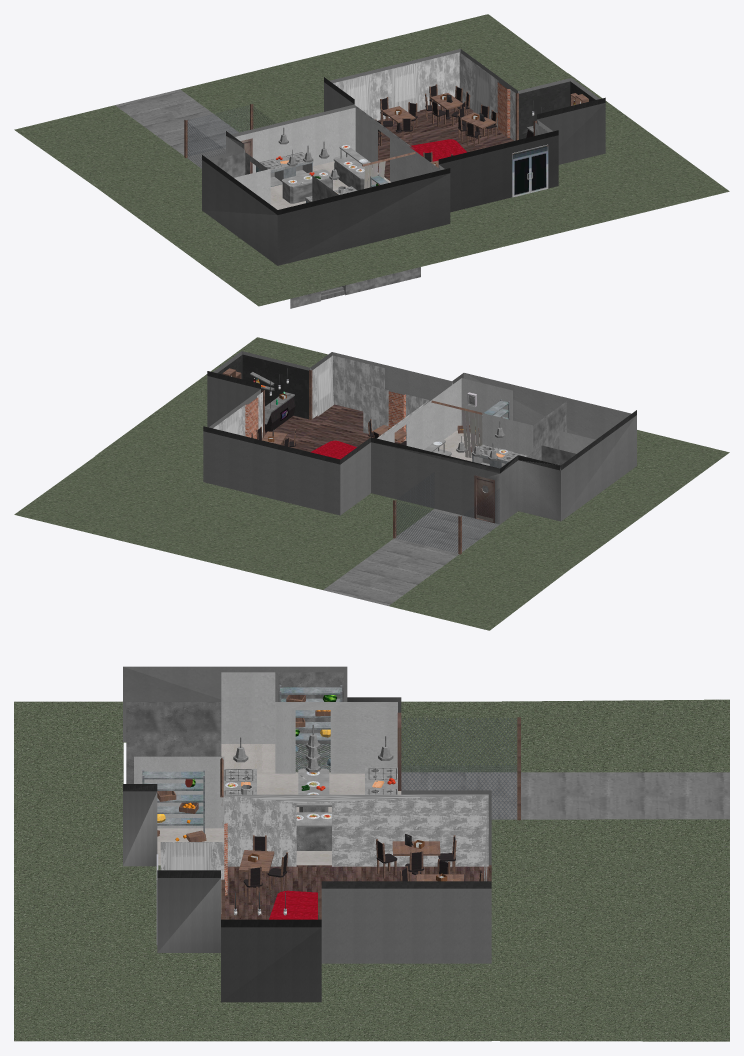
3 renders of one model, top to bottom at view 1: azimuth 30°, elevation 25°; view 2: azimuth 150°, elevation 25°; view 3: azimuth 270°, elevation 25°, orthographic. The views are drawn at different scales.
Parts seen in each view (by area): view 1: floor, walls, room decor 2, windows, street decor, table for food, room decor 1, stoves, food room decor 2; view 2: floor, walls, street decor, room decor 1, windows, food room decor 2, room decor 2, stoves, food room decor 1; view 3: floor, walls, street decor, room decor 2, food room decor 1, table for food, player room decor, room decor 1, stoves, windows, lamps, food.
Boxes of the visible parts, box(x1,y1,x2,y2) form: floor: box(14, 14, 729, 306); walls: box(202, 49, 605, 308); room decor 2: box(375, 84, 497, 167); windows: box(343, 63, 547, 134); street decor: box(184, 104, 274, 173); table for food: box(281, 145, 378, 203); room decor 1: box(410, 93, 588, 161); stoves: box(256, 152, 357, 202); food room decor 2: box(362, 152, 415, 188); floor: box(14, 337, 729, 630); walls: box(203, 351, 636, 524); street decor: box(393, 473, 499, 554); room decor 1: box(222, 368, 356, 459); windows: box(223, 357, 333, 434); food room decor 2: box(431, 400, 484, 458); room decor 2: box(251, 419, 406, 448); stoves: box(472, 444, 527, 468); food room decor 1: box(457, 392, 509, 446); floor: box(14, 699, 729, 1041); walls: box(123, 666, 491, 1002); street decor: box(397, 712, 520, 820); room decor 2: box(239, 834, 482, 902); food room decor 1: box(142, 769, 204, 836); table for food: box(296, 768, 331, 850); player room decor: box(279, 685, 342, 766); room decor 1: box(221, 879, 321, 919); stoves: box(224, 767, 397, 794); windows: box(165, 811, 487, 881); lamps: box(233, 725, 393, 772); food: box(225, 771, 395, 820).
Size of the model in its own units: 17.89 by 3.71 by 15.82.
48 materials, 45 textured.
